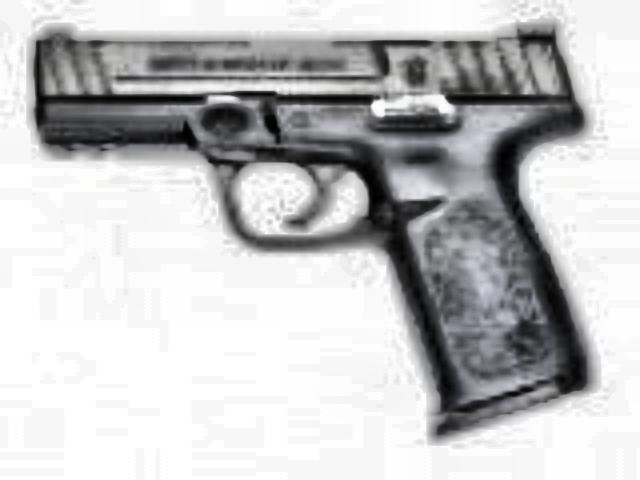pistol: (20, 8, 588, 436)
